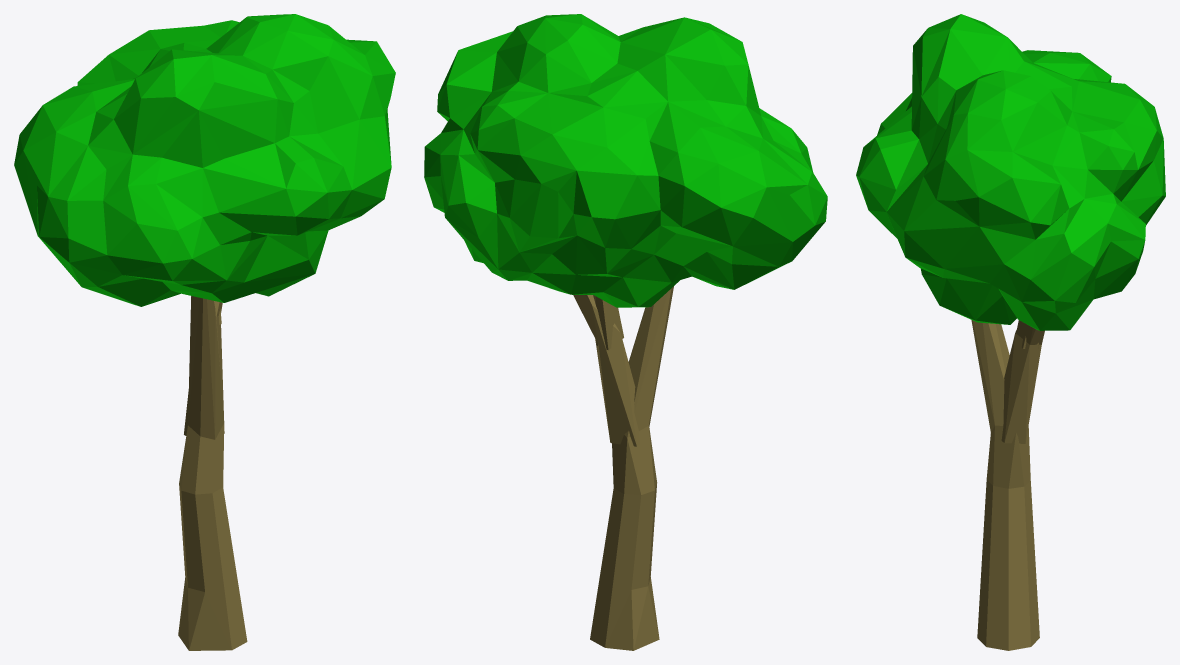
File: tree_2.fbx
3 renders of one model, left to right at view 1: azimuth 30°, elevation 25°; view 2: azimuth 150°, elevation 25°; view 3: azimuth 270°, elevation 25°, orthographic. The views are drawn at different scales.
Visible parts, largest first — view 1: tree2; view 2: tree2; view 3: tree2.
Part boxes in pixels (x1,y1,x2,y2): tree2: (14, 14, 395, 650); tree2: (424, 14, 827, 650); tree2: (856, 14, 1165, 650).
Size of the model in its own units: 127 by 206 by 97.62.
